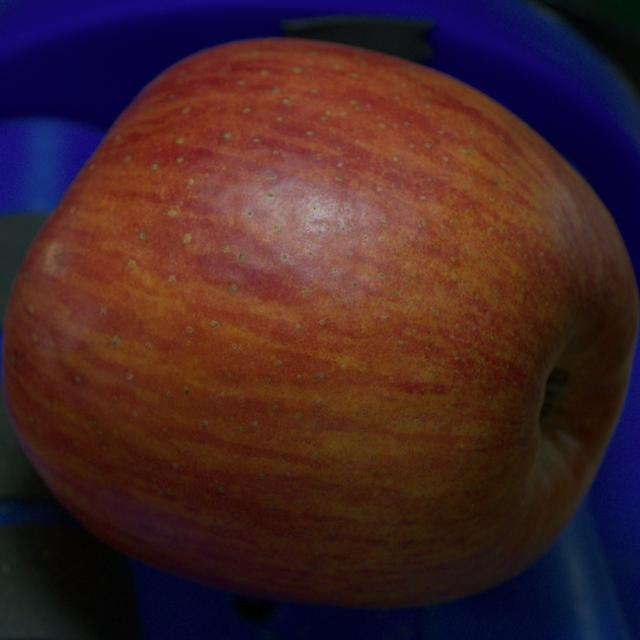apple: (2, 39, 638, 608)
